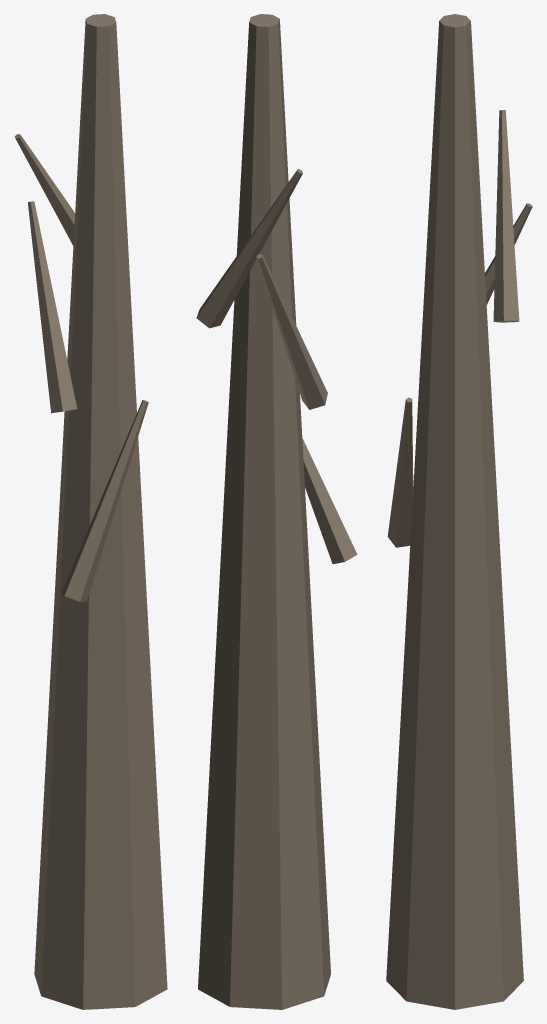
Rendered from dead_tree_1.glb.
3 views of the same model, side by side, from view 1: azimuth 30°, elevation 25°; view 2: azimuth 150°, elevation 25°; view 3: azimuth 270°, elevation 25° (orthographic).
Parts seen in each view (by area): view 1: dead_tree_1, dead_tree_1_branch_1, dead_tree_1_branch_2, dead_tree_1_branch_0; view 2: dead_tree_1, dead_tree_1_branch_0, dead_tree_1_branch_2, dead_tree_1_branch_1; view 3: dead_tree_1, dead_tree_1_branch_0, dead_tree_1_branch_1, dead_tree_1_branch_2.
Boxes of the visible parts, x1=… form: dead_tree_1: x1=34, y1=14, x2=167, y2=1009; dead_tree_1_branch_1: x1=62, y1=400, x2=148, y2=601; dead_tree_1_branch_2: x1=28, y1=201, x2=77, y2=413; dead_tree_1_branch_0: x1=14, y1=134, x2=74, y2=245; dead_tree_1: x1=198, y1=14, x2=330, y2=1009; dead_tree_1_branch_0: x1=196, y1=169, x2=302, y2=328; dead_tree_1_branch_2: x1=256, y1=254, x2=327, y2=409; dead_tree_1_branch_1: x1=302, y1=438, x2=357, y2=564; dead_tree_1: x1=386, y1=14, x2=523, y2=1009; dead_tree_1_branch_0: x1=493, y1=110, x2=519, y2=322; dead_tree_1_branch_1: x1=387, y1=397, x2=413, y2=547; dead_tree_1_branch_2: x1=485, y1=203, x2=532, y2=304.
Bounding box in the file's own units: 0.4066 × 3 × 0.4151.
